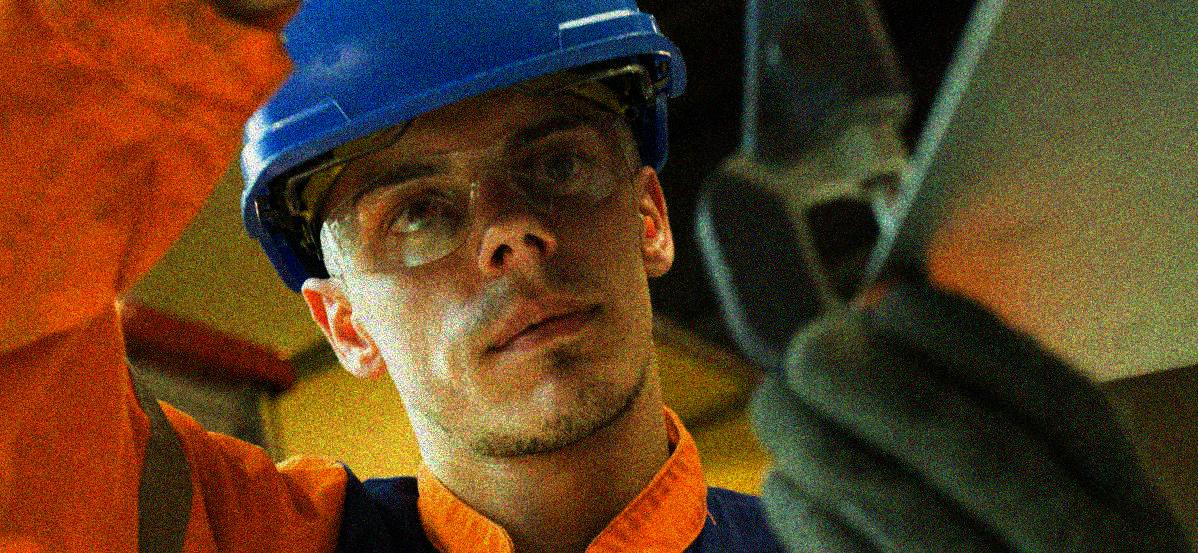helmet: (238, 1, 694, 454)
